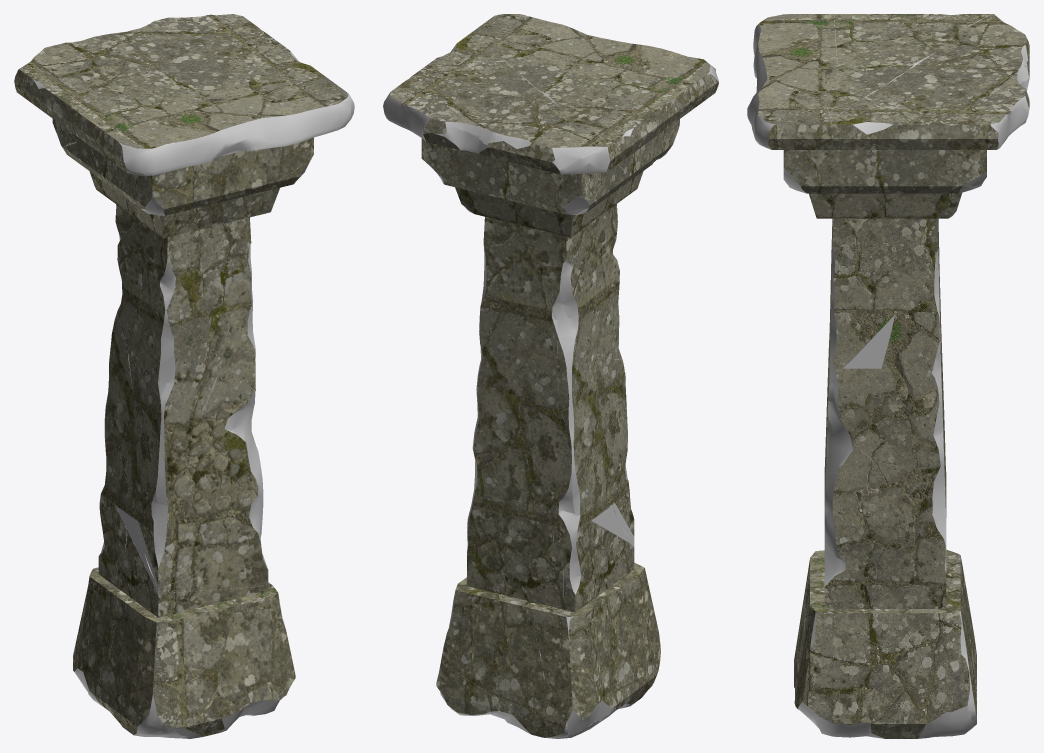
File: SM_DestructiblePillar_00.fbx
The picture shows the model from 3 angles, left to right: view 1: azimuth 30°, elevation 25°; view 2: azimuth 150°, elevation 25°; view 3: azimuth 270°, elevation 25°; orthographic projection. The views are drawn at different scales.
Parts seen in each view (by area): view 1: SM_Chateaux_07_02_dmg.003, SM_Chateaux_07_02_dmg.004, SM_Chateaux_07_02_dmg.011, SM_Chateaux_07_02_dmg.012, SM_Chateaux_07_02_dmg.028, SM_Chateaux_07_02_dmg.025, SM_Chateaux_07_02_dmg.006, SM_Chateaux_07_02_dmg.013, SM_Chateaux_07_02_dmg.022, SM_Chateaux_07_02_dmg.026, SM_Chateaux_07_02_dmg.023, SM_Chateaux_07_02_dmg.017 (+11 smaller); view 2: SM_Chateaux_07_02_dmg.012, SM_Chateaux_07_02_dmg.026, SM_Chateaux_07_02_dmg.016, SM_Chateaux_07_02_dmg.003, SM_Chateaux_07_02_dmg.009, SM_Chateaux_07_02_dmg.005, SM_Chateaux_07_02_dmg.011, SM_Chateaux_07_02_dmg.013, SM_Chateaux_07_02_dmg.007, SM_Chateaux_07_02_dmg.020, SM_Chateaux_07_02_dmg.032, SM_Chateaux_07_02_dmg.025 (+14 smaller); view 3: SM_Chateaux_07_02_dmg.019, SM_Chateaux_07_02_dmg.003, SM_Chateaux_07_02_dmg.005, SM_Chateaux_07_02_dmg.013, SM_Chateaux_07_02_dmg.028, SM_Chateaux_07_02_dmg.034, SM_Chateaux_07_02_dmg.012, SM_Chateaux_07_02_dmg.022, SM_Chateaux_07_02_dmg.018, SM_Chateaux_07_02_dmg.007, SM_Chateaux_07_02_dmg.029, SM_Chateaux_07_02_dmg.016 (+10 smaller).
Part boxes in pixels (x1=…): SM_Chateaux_07_02_dmg.003: x1=74, y1=77, x2=354, y2=222; SM_Chateaux_07_02_dmg.004: x1=139, y1=217, x2=249, y2=396; SM_Chateaux_07_02_dmg.011: x1=107, y1=304, x2=222, y2=584; SM_Chateaux_07_02_dmg.012: x1=14, y1=69, x2=311, y2=141; SM_Chateaux_07_02_dmg.028: x1=171, y1=599, x2=295, y2=738; SM_Chateaux_07_02_dmg.025: x1=100, y1=530, x2=211, y2=699; SM_Chateaux_07_02_dmg.006: x1=129, y1=304, x2=247, y2=503; SM_Chateaux_07_02_dmg.013: x1=50, y1=27, x2=319, y2=75; SM_Chateaux_07_02_dmg.022: x1=223, y1=380, x2=268, y2=588; SM_Chateaux_07_02_dmg.026: x1=73, y1=484, x2=126, y2=699; SM_Chateaux_07_02_dmg.023: x1=135, y1=453, x2=228, y2=592; SM_Chateaux_07_02_dmg.017: x1=90, y1=73, x2=325, y2=238; SM_Chateaux_07_02_dmg.012: x1=476, y1=37, x2=685, y2=179; SM_Chateaux_07_02_dmg.026: x1=559, y1=511, x2=622, y2=736; SM_Chateaux_07_02_dmg.016: x1=383, y1=85, x2=605, y2=214; SM_Chateaux_07_02_dmg.003: x1=472, y1=14, x2=718, y2=160; SM_Chateaux_07_02_dmg.009: x1=441, y1=574, x2=550, y2=734; SM_Chateaux_07_02_dmg.005: x1=483, y1=216, x2=559, y2=407; SM_Chateaux_07_02_dmg.011: x1=552, y1=285, x2=634, y2=535; SM_Chateaux_07_02_dmg.013: x1=405, y1=36, x2=597, y2=134; SM_Chateaux_07_02_dmg.007: x1=517, y1=362, x2=574, y2=513; SM_Chateaux_07_02_dmg.020: x1=472, y1=377, x2=534, y2=505; SM_Chateaux_07_02_dmg.032: x1=528, y1=224, x2=607, y2=359; SM_Chateaux_07_02_dmg.025: x1=597, y1=528, x2=656, y2=700; SM_Chateaux_07_02_dmg.019: x1=859, y1=269, x2=942, y2=478; SM_Chateaux_07_02_dmg.003: x1=747, y1=14, x2=837, y2=170; SM_Chateaux_07_02_dmg.005: x1=827, y1=218, x2=941, y2=428; SM_Chateaux_07_02_dmg.013: x1=831, y1=24, x2=973, y2=149; SM_Chateaux_07_02_dmg.028: x1=794, y1=607, x2=884, y2=737; SM_Chateaux_07_02_dmg.034: x1=807, y1=486, x2=946, y2=648; SM_Chateaux_07_02_dmg.012: x1=827, y1=14, x2=992, y2=149; SM_Chateaux_07_02_dmg.022: x1=824, y1=315, x2=894, y2=601; SM_Chateaux_07_02_dmg.018: x1=816, y1=150, x2=980, y2=218; SM_Chateaux_07_02_dmg.007: x1=837, y1=337, x2=945, y2=593; SM_Chateaux_07_02_dmg.029: x1=878, y1=646, x2=972, y2=738; SM_Chateaux_07_02_dmg.016: x1=896, y1=77, x2=1029, y2=186.
Size of the model in its own units: 403 by 1043 by 421.
